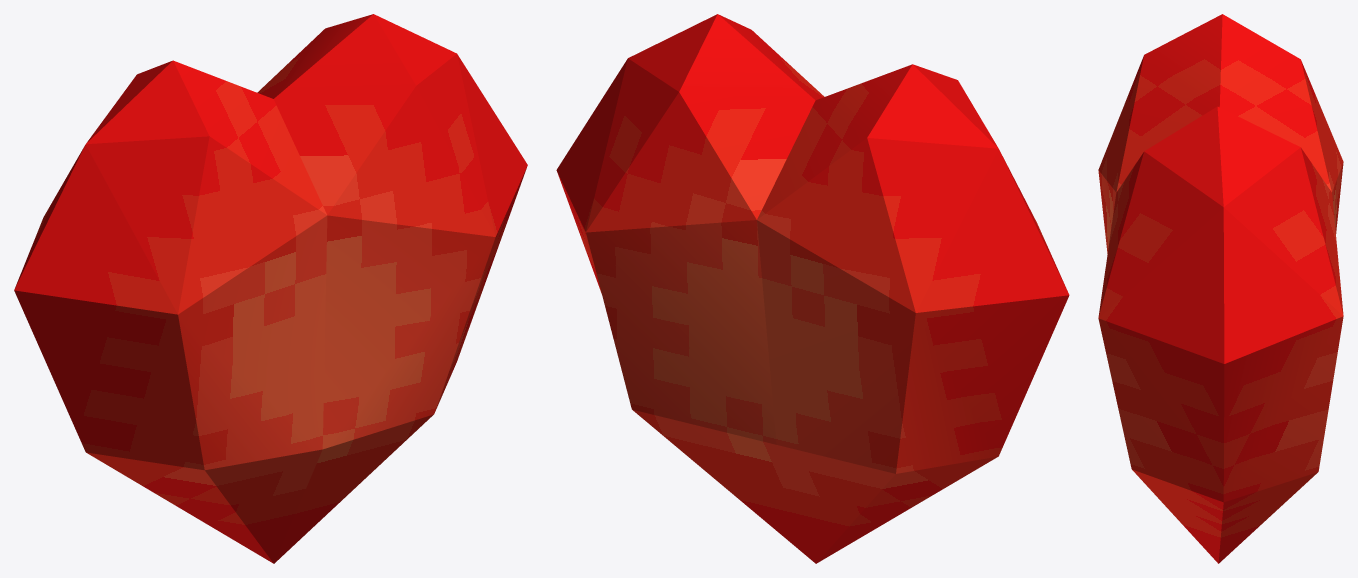
File: heart.dae
3 views of the same model, side by side, from view 1: azimuth 30°, elevation 25°; view 2: azimuth 150°, elevation 25°; view 3: azimuth 270°, elevation 25° (orthographic). The views are drawn at different scales.
Visible parts, largest first — view 1: Heart; view 2: Heart; view 3: Heart.
Boxes of the visible parts, left/top/right/bottom form: Heart: left=14, top=14, right=527, bottom=563; Heart: left=556, top=14, right=1069, bottom=563; Heart: left=1098, top=14, right=1343, bottom=563.
Size of the model in its own units: 1.33 by 0.5728 by 1.3.
Materials: 1 (1 with a texture image).
